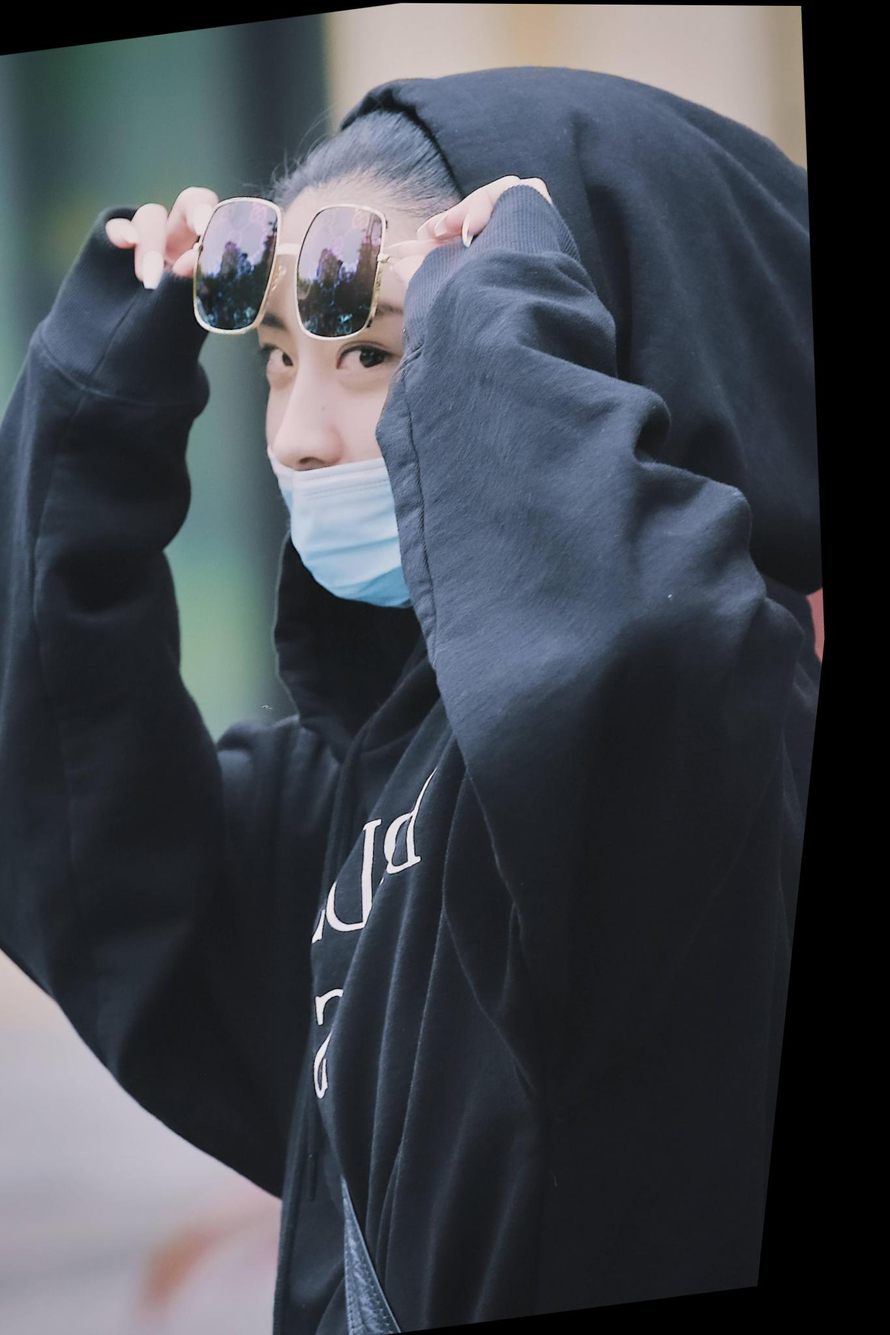WRONG: (237, 278, 458, 635)
